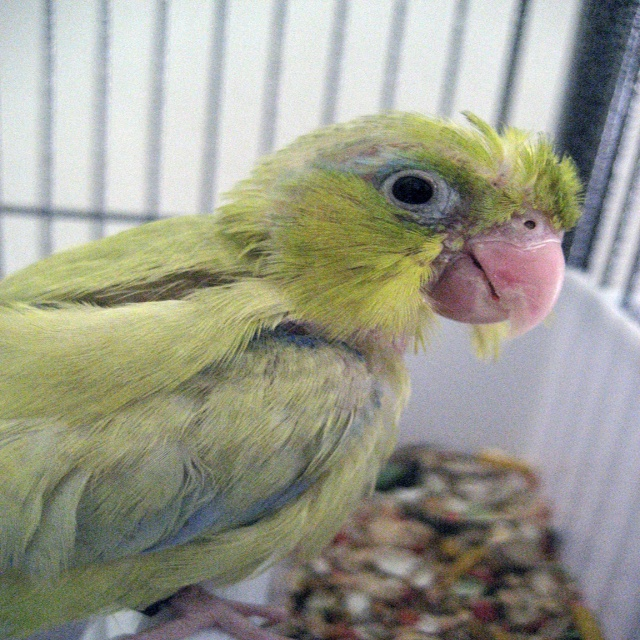Parrot: (0, 108, 583, 639)
